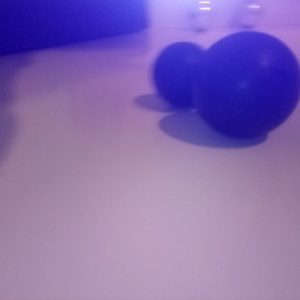alive_ball: (188, 1, 219, 31), (236, 1, 266, 28)
dead_ball: (191, 30, 300, 137), (152, 41, 211, 105)
